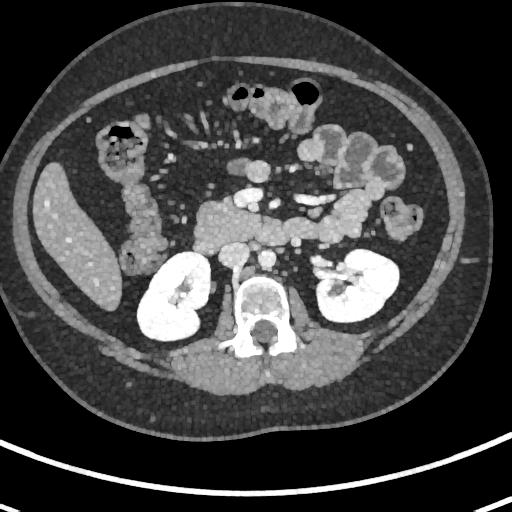Lesion: (327, 277, 356, 302)
